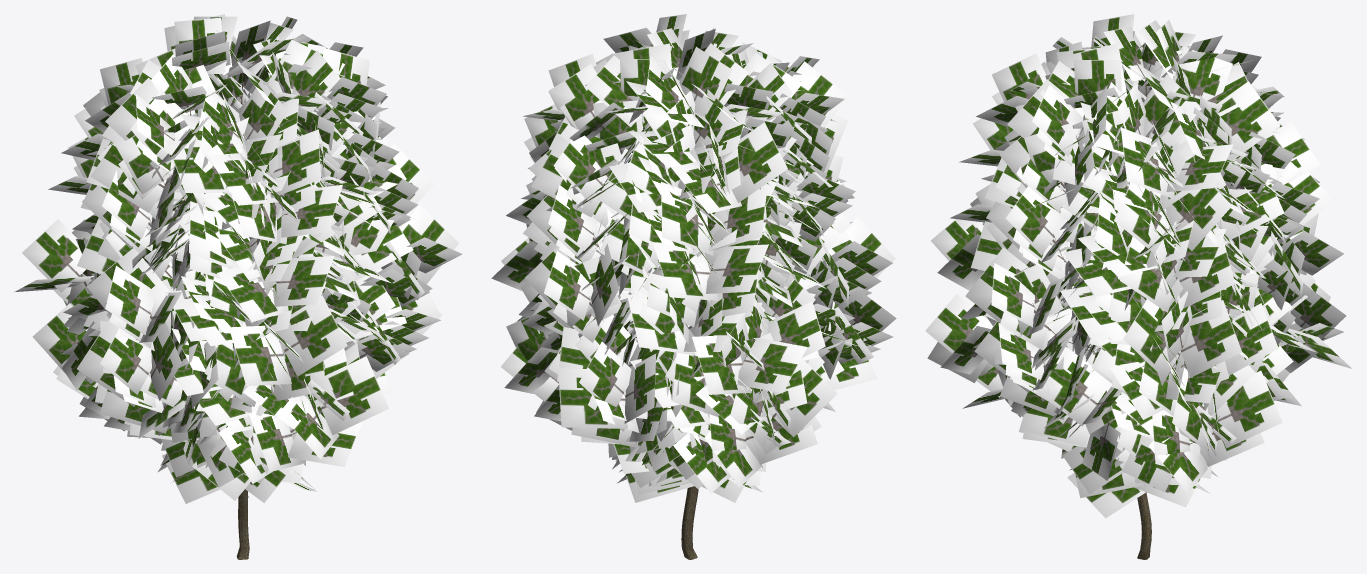
File: tree0.glb
3 views of the same model, side by side, from view 1: azimuth 30°, elevation 25°; view 2: azimuth 150°, elevation 25°; view 3: azimuth 270°, elevation 25° (orthographic).
Visible parts, largest first — view 1: Maple_13; view 2: Maple_13; view 3: Maple_13.
Part boxes in pixels (x1=…): Maple_13: x1=15, y1=14, x2=462, y2=559; Maple_13: x1=491, y1=14, x2=896, y2=559; Maple_13: x1=925, y1=14, x2=1351, y2=559.
Bounding box in the file's own units: 11 × 15.89 × 11.85.
2 materials, 2 textured.
